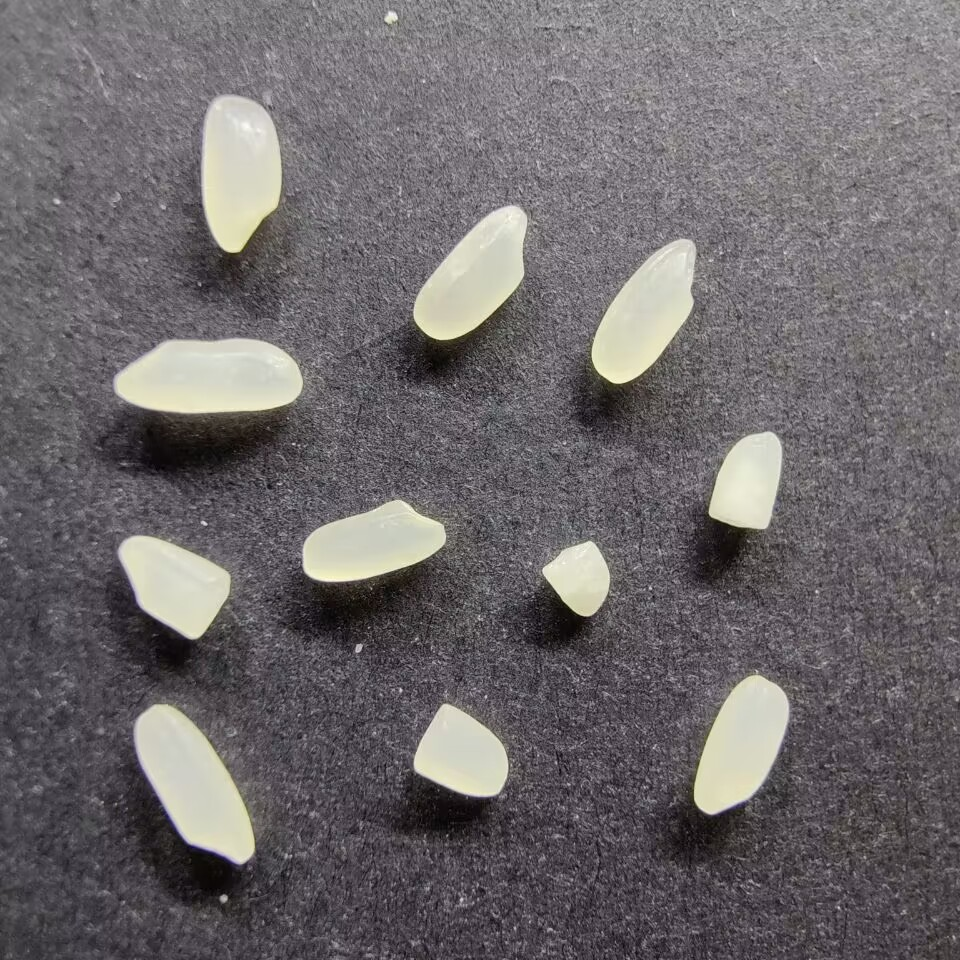broken: (115, 534, 232, 641), (410, 701, 509, 799), (706, 429, 783, 532), (540, 540, 613, 618)
rice: (132, 702, 257, 867), (411, 204, 530, 342), (589, 235, 698, 385), (112, 337, 303, 415), (691, 672, 789, 817), (200, 94, 282, 254), (300, 498, 447, 583)
